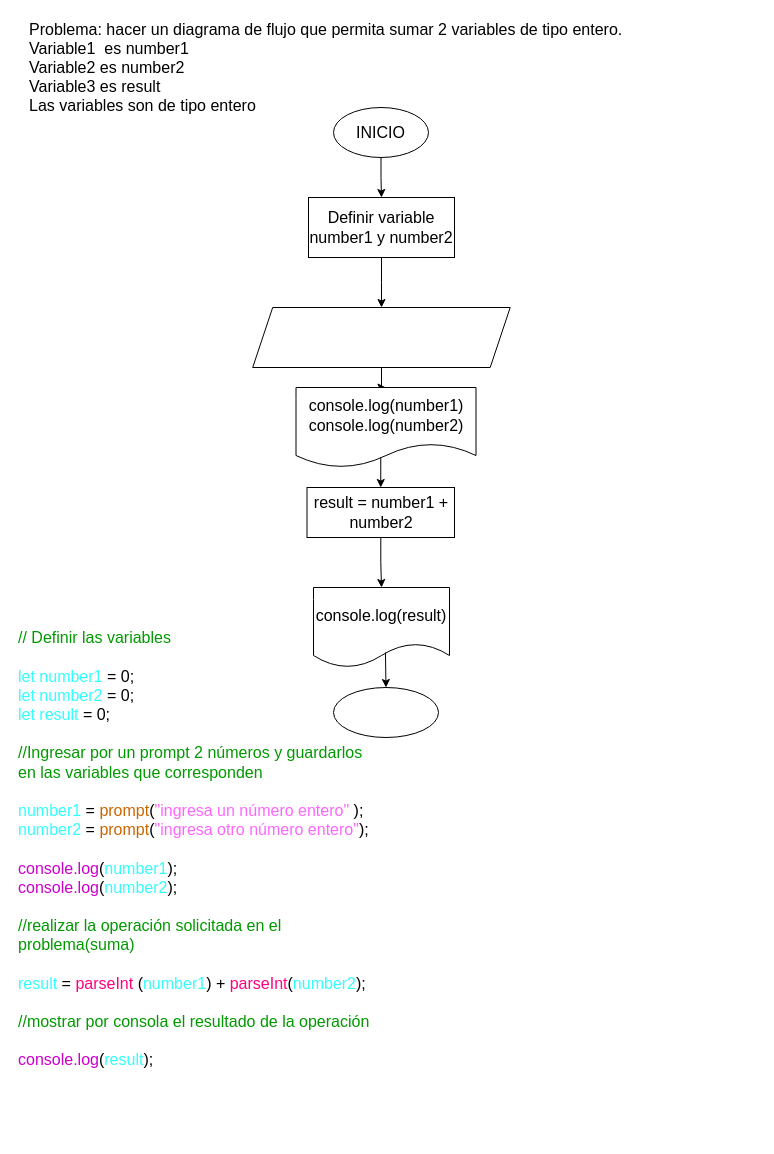
The diagram is 774 pixels wide and 1154 high, and some of its shapes have lost their labels. The box of each missing label's shape, as (x1, y1, x2, y2) in pixels:
FIN: (332, 686, 438, 738)
Introducir valor de number1 y number2: (252, 306, 510, 368)
